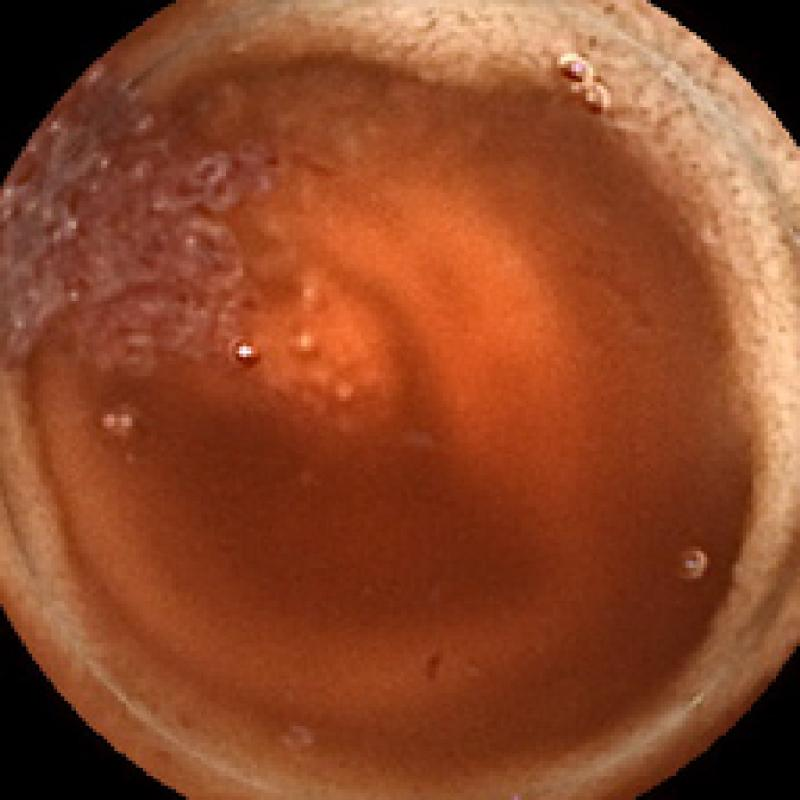bleeding: (0, 67, 271, 371)
